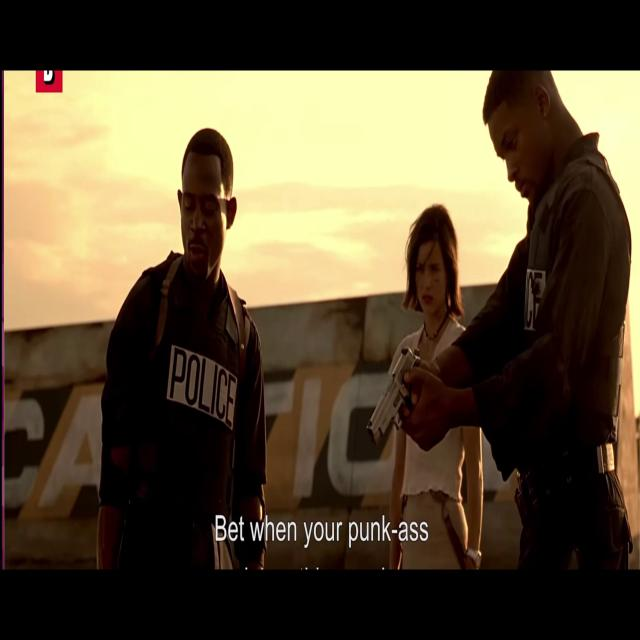weapons: (361, 327, 431, 463)
